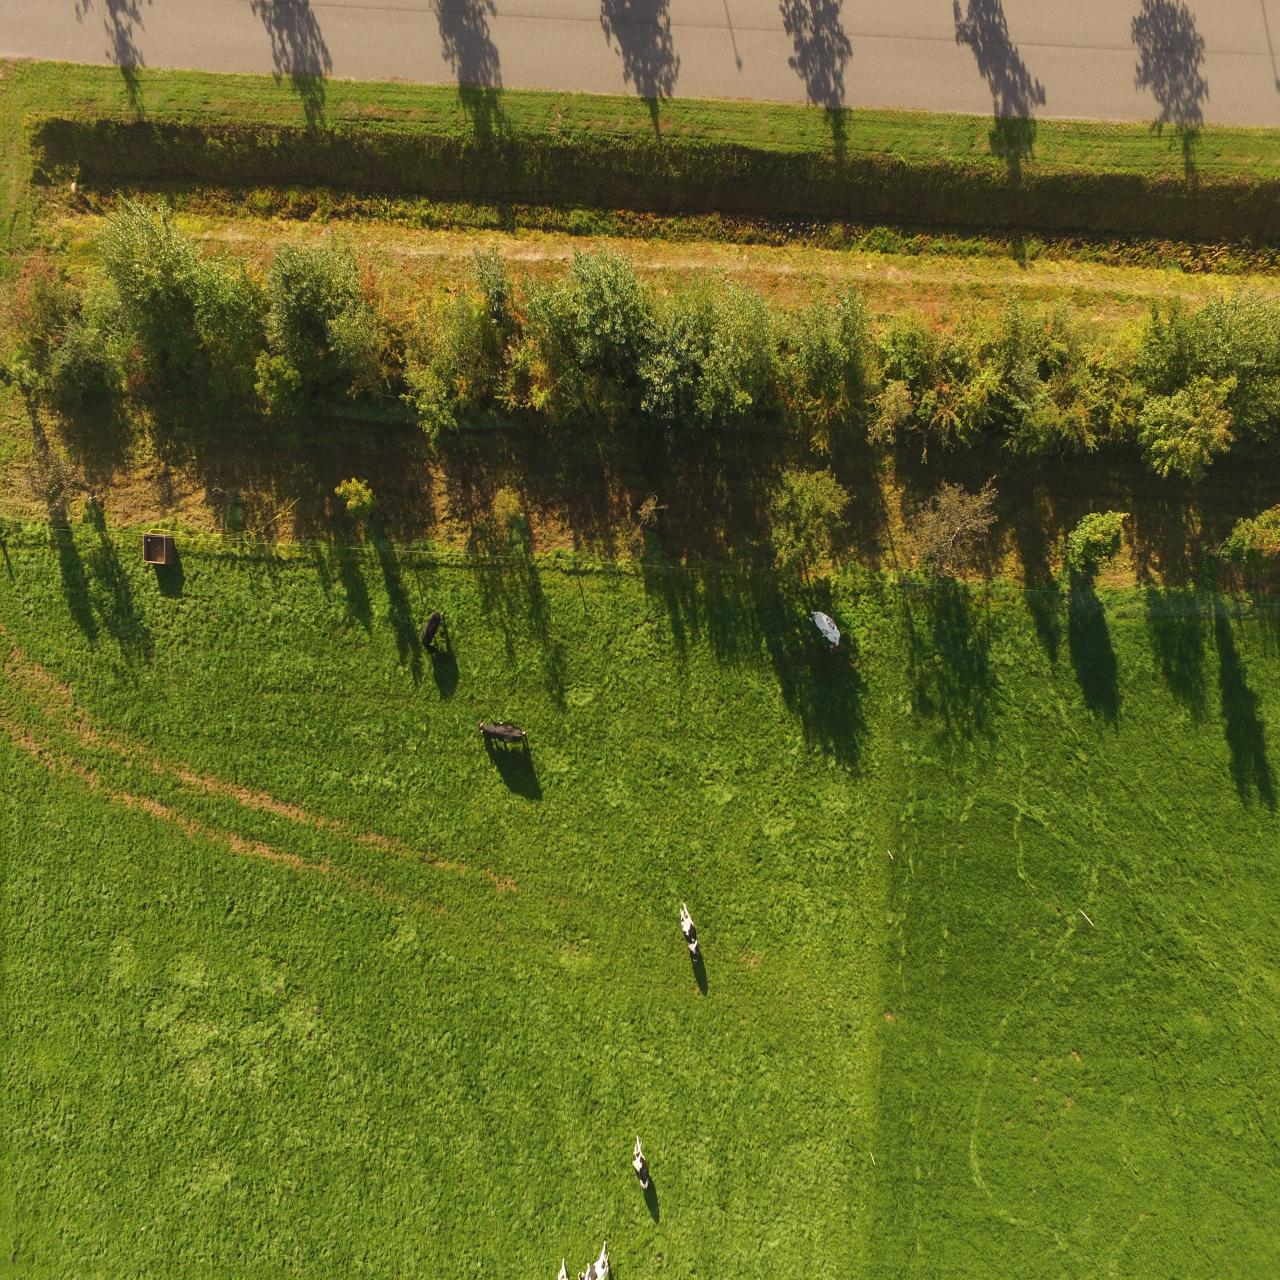cow: (477, 710, 535, 763), (418, 605, 452, 660), (806, 606, 844, 654), (678, 899, 700, 962), (631, 1132, 652, 1192)
